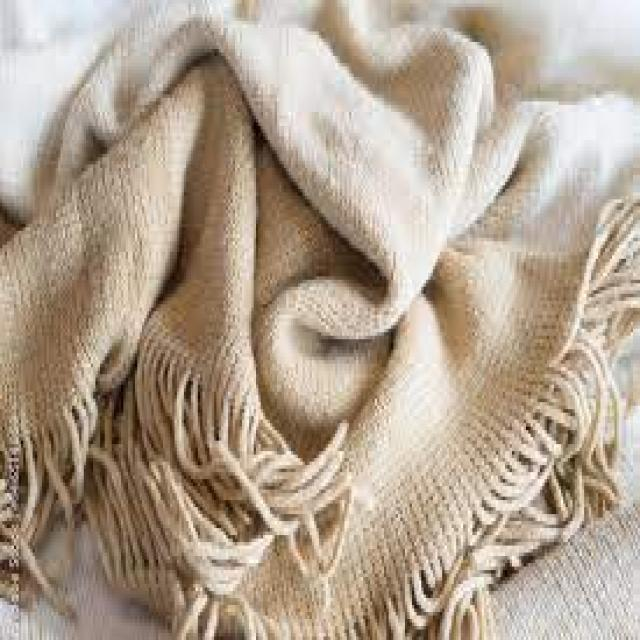blanket: (1, 5, 640, 639)
